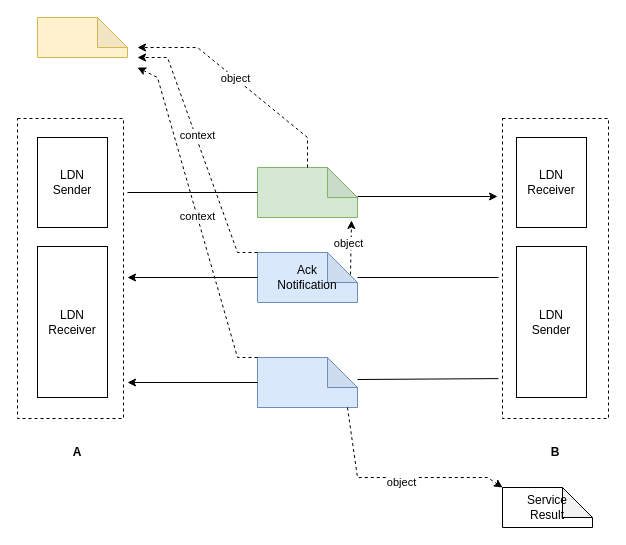
The diagram is 626 pixels wide and 545 high, and some of its shapes have lost their labels. Each missing label, with the centre of its shape:
Artifact: the point at 82,37
Request Notification: the point at 307,192
Response Notification: the point at 307,382
